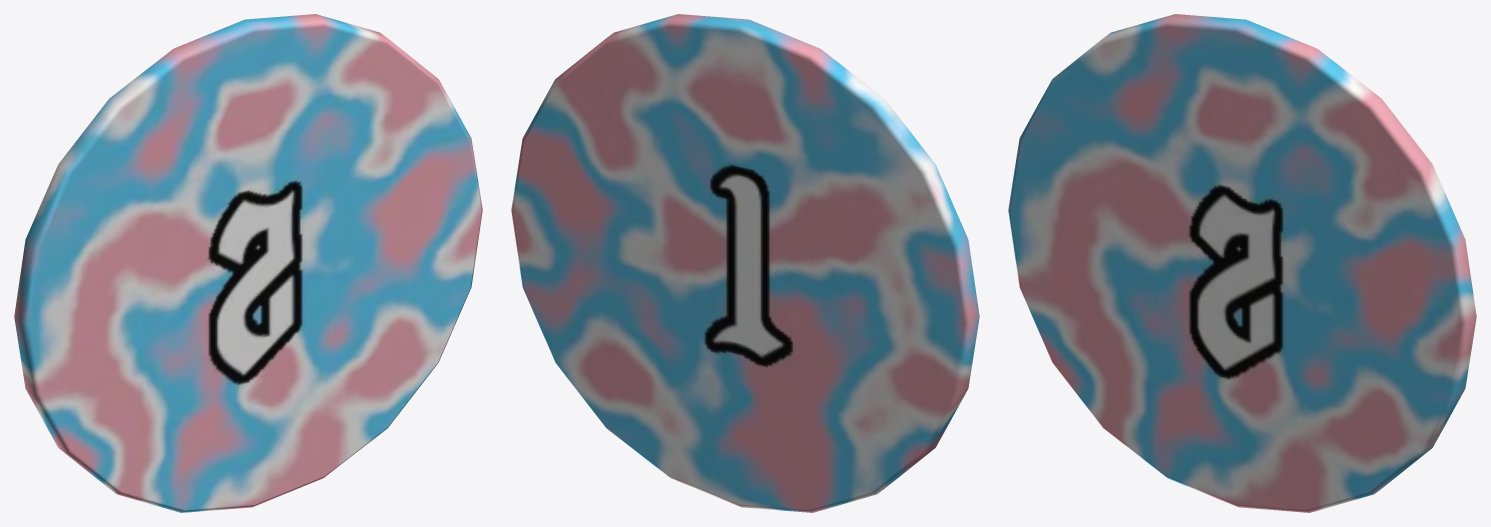
The picture shows the model from 3 angles, left to right: view 1: azimuth 30°, elevation 25°; view 2: azimuth 150°, elevation 25°; view 3: azimuth 330°, elevation 25°; orthographic projection.
Parts seen in each view (by area): view 1: D2; view 2: D2; view 3: D2.
Boxes of the visible parts, bbox=[...] form: D2: bbox=[14, 14, 482, 512]; D2: bbox=[511, 14, 979, 512]; D2: bbox=[1008, 14, 1476, 512].
Bounding box in the file's own units: 182 × 182 × 9.11.
Materials: 1 (1 with a texture image).
